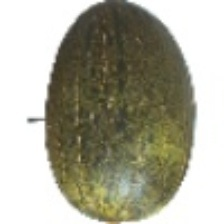honeydew: (29, 67, 187, 202)
